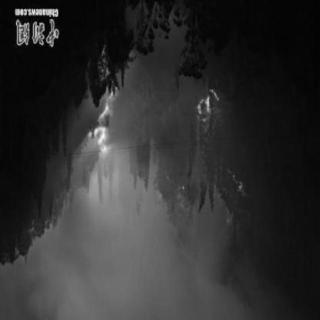Fire: (196, 84, 223, 123)
Smoke: (78, 214, 154, 302), (169, 228, 217, 312), (44, 246, 70, 316)
